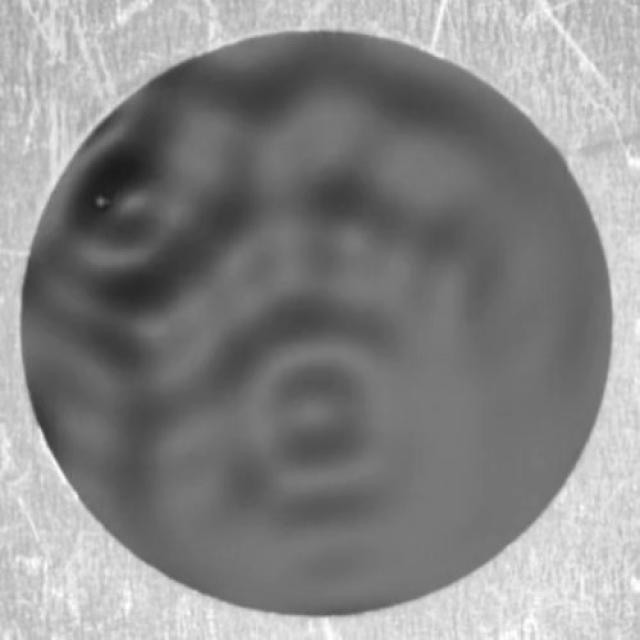droplet: (92, 193, 110, 214)
